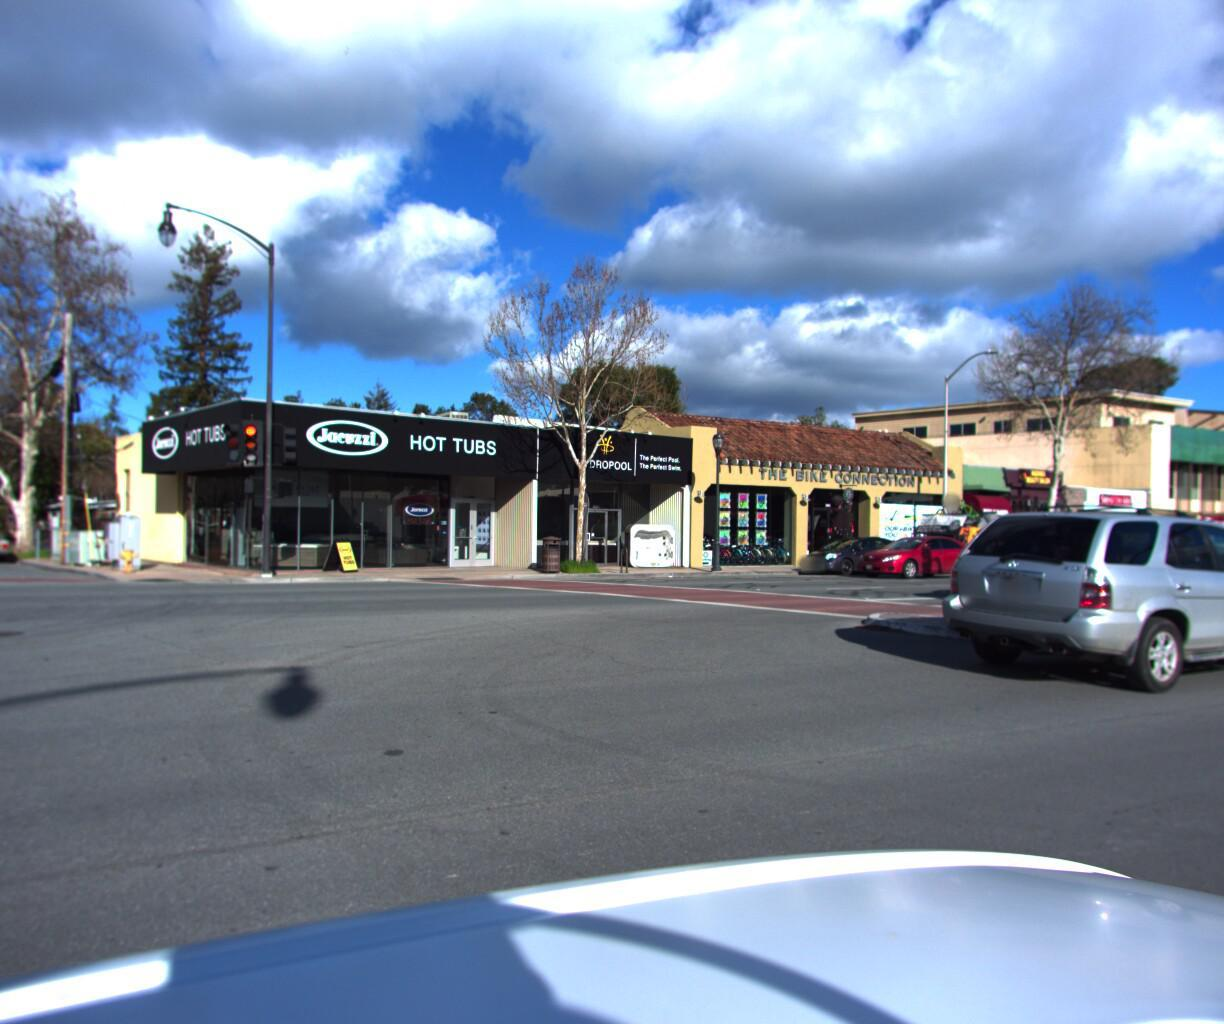car: (918, 484, 1224, 703), (885, 500, 1026, 575), (844, 529, 985, 581), (792, 536, 912, 578), (0, 530, 20, 571)
